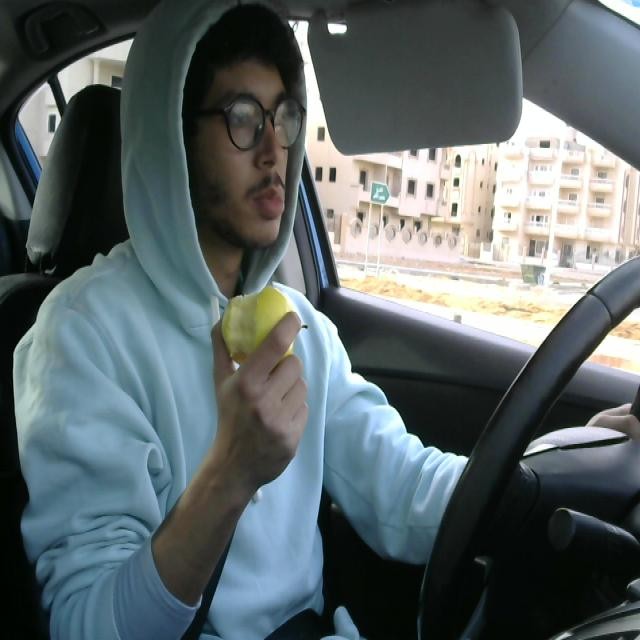eating: (220, 280, 296, 367)
